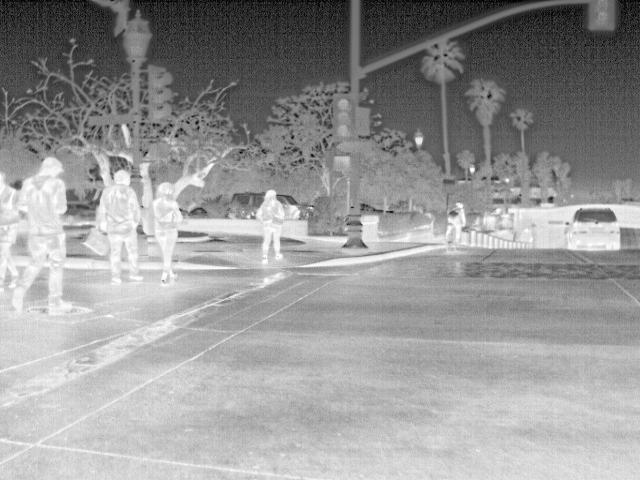car: (565, 206, 623, 250), (277, 194, 310, 222), (232, 193, 266, 219)
person: (8, 155, 75, 317), (98, 171, 145, 285), (150, 181, 185, 283), (258, 190, 286, 264), (2, 179, 21, 285), (444, 200, 466, 243)
